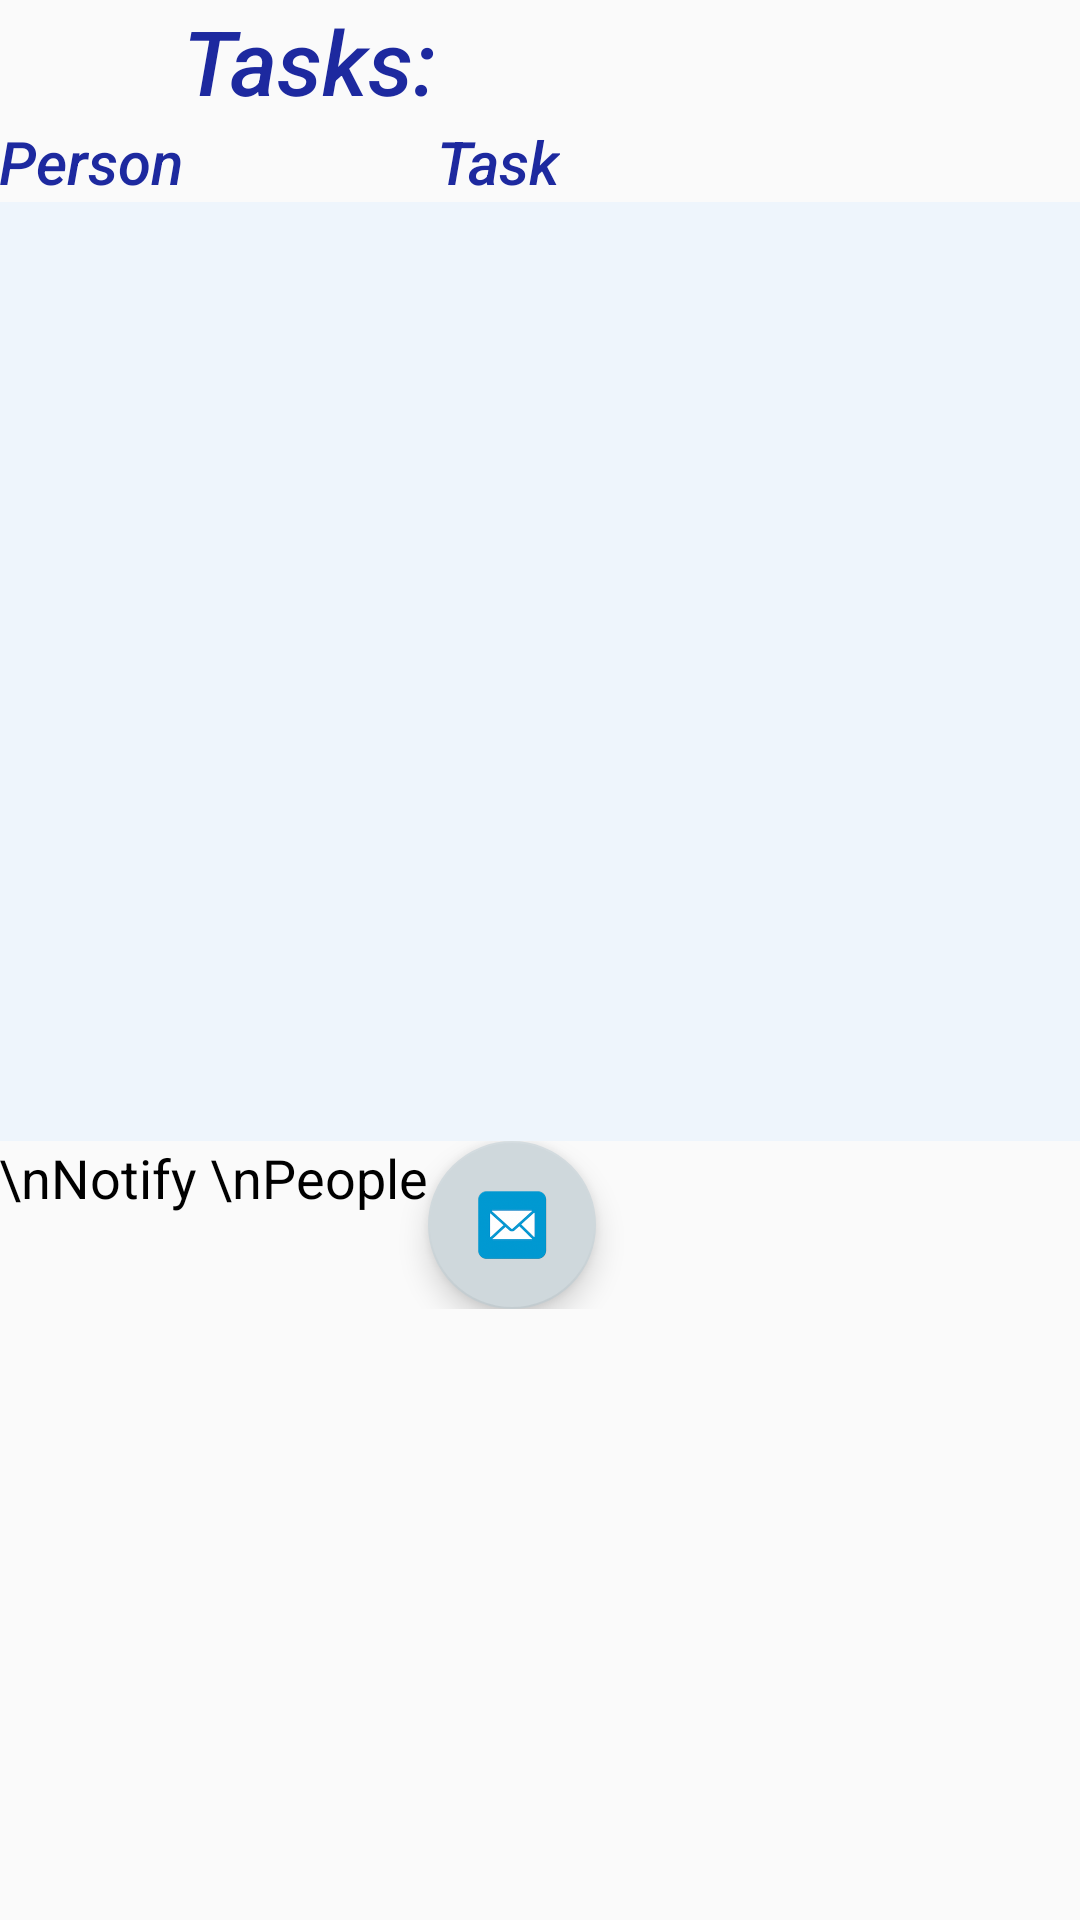

Screen size 1080px×1920px. Icon name, then its box in pixels as (x1, y1, x2, y2):
email: (428, 1141, 596, 1309)
